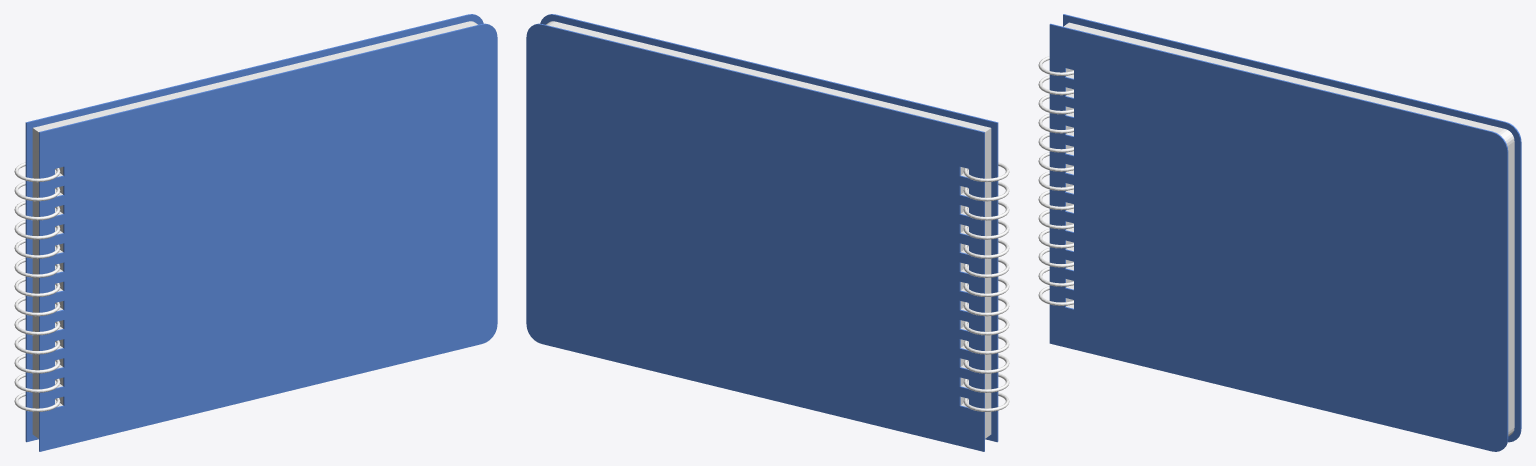
3 renders of one model, left to right at view 1: azimuth 30°, elevation 25°; view 2: azimuth 150°, elevation 25°; view 3: azimuth 330°, elevation 25°, orthographic.
Visible parts, largest first — view 1: notepad; view 2: notepad; view 3: notepad.
Part boxes in pixels (x1,y1,x2,y2): notepad: [14, 14, 497, 451]; notepad: [526, 14, 1009, 451]; notepad: [1038, 14, 1521, 451].
Bounding box in the file's own units: 6.1 × 3.94 × 0.5122.
